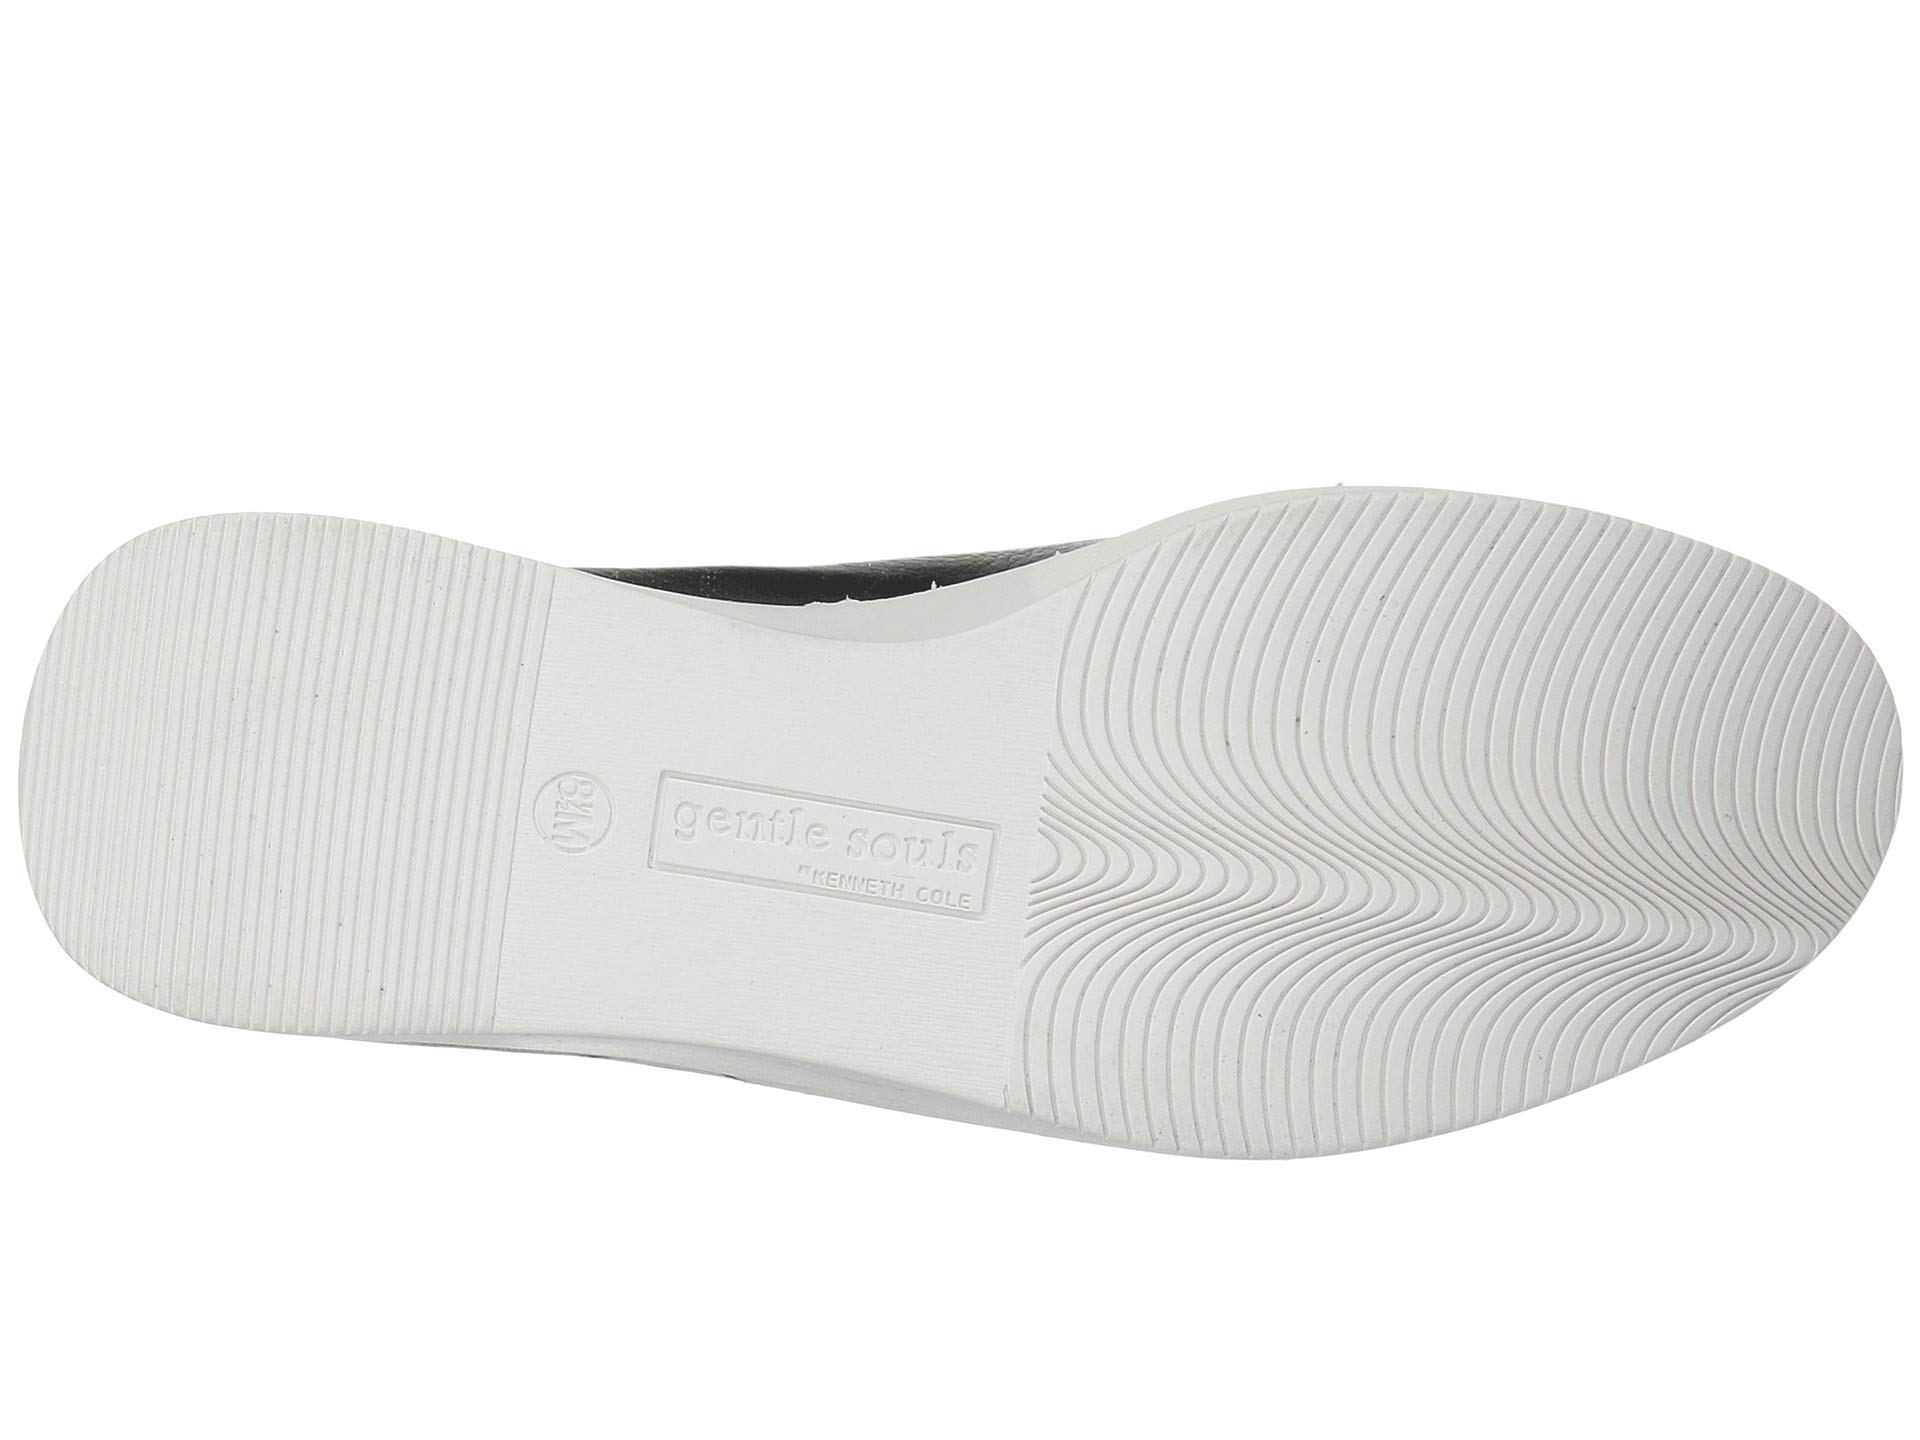circle: (519, 740, 626, 883)
line: (1288, 522, 1726, 781), (142, 599, 404, 953)
text: (519, 740, 626, 883)
